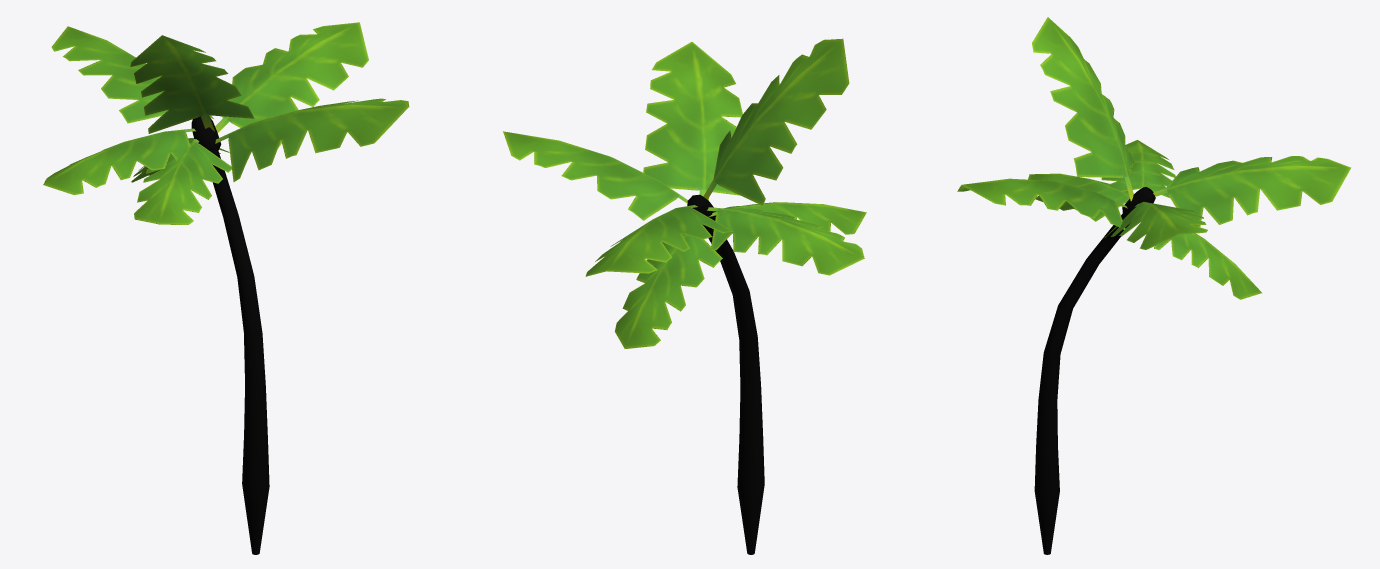
The model's file is small_palm.obj.
The picture shows the model from 3 angles, left to right: view 1: azimuth 30°, elevation 25°; view 2: azimuth 150°, elevation 25°; view 3: azimuth 270°, elevation 25°; orthographic projection. The views are drawn at different scales.
Visible parts, largest first — view 1: TreeTrunk1; view 2: TreeTrunk1; view 3: TreeTrunk1.
Part boxes in pixels (x1=…): TreeTrunk1: x1=43, y1=22, x2=409, y2=554; TreeTrunk1: x1=503, y1=38, x2=866, y2=554; TreeTrunk1: x1=957, y1=17, x2=1351, y2=554.
Size of the model in its own units: 16.9 by 23.82 by 19.49.
